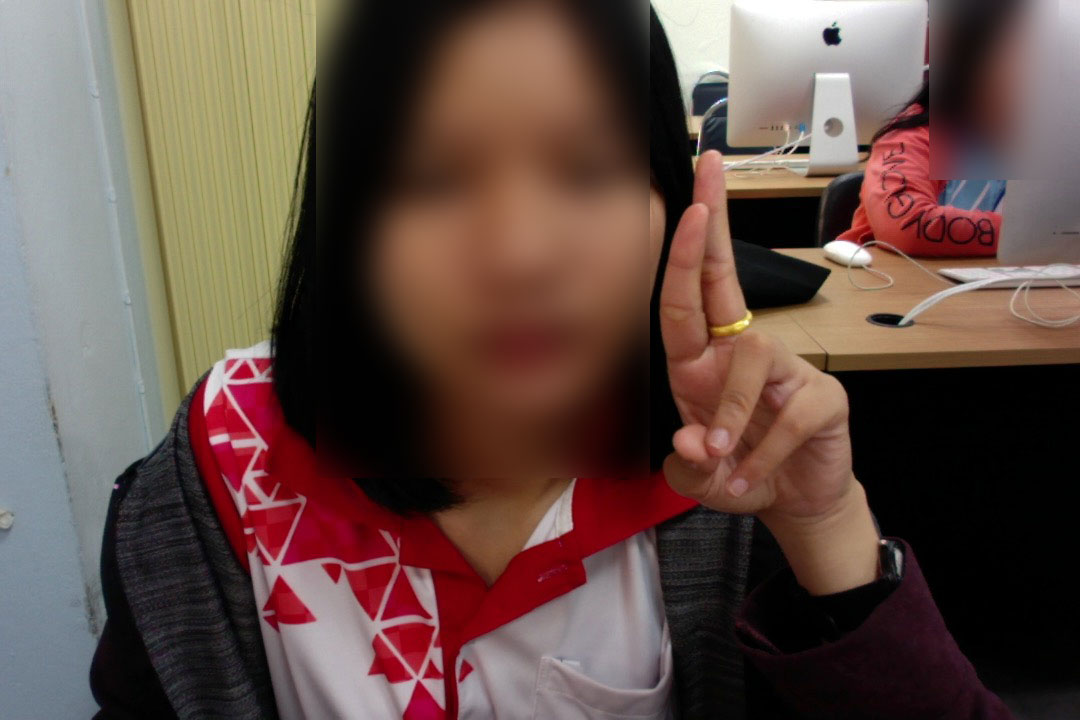rao: (643, 147, 864, 540)
